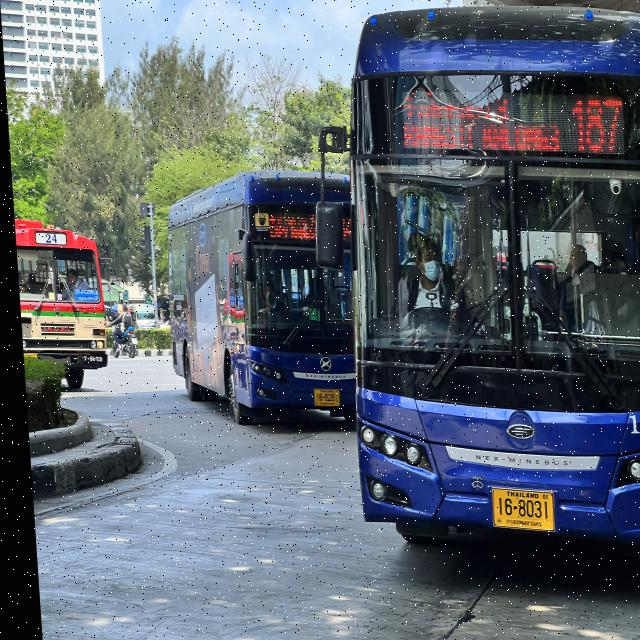BMTA-bus: (11, 210, 110, 395)
Bus Line Number: (564, 91, 630, 160), (33, 231, 64, 247)
Bus Side Number: (617, 412, 640, 435), (77, 356, 99, 362)
Destination Sign: (393, 84, 561, 158), (263, 208, 318, 248), (69, 290, 94, 302)
TSB-Bus: (324, 0, 640, 562), (155, 162, 365, 426)
